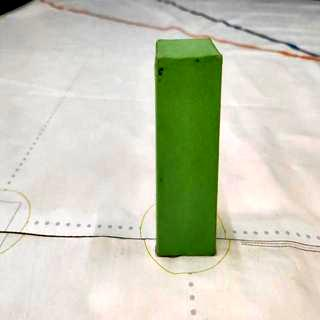greenbox: (153, 36, 224, 258)
